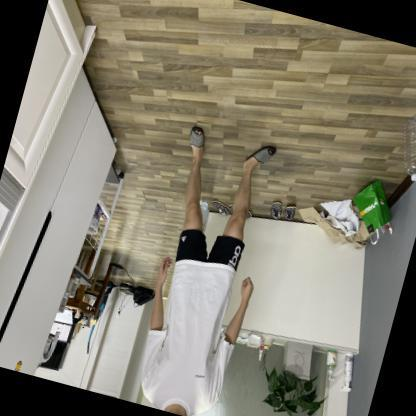no_safety-shoe: (180, 119, 221, 173), (239, 132, 282, 179)
